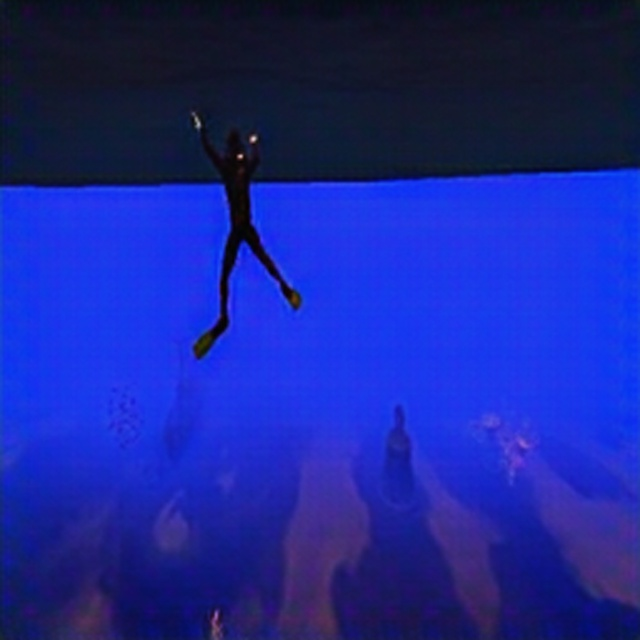diver: (191, 109, 302, 331)
